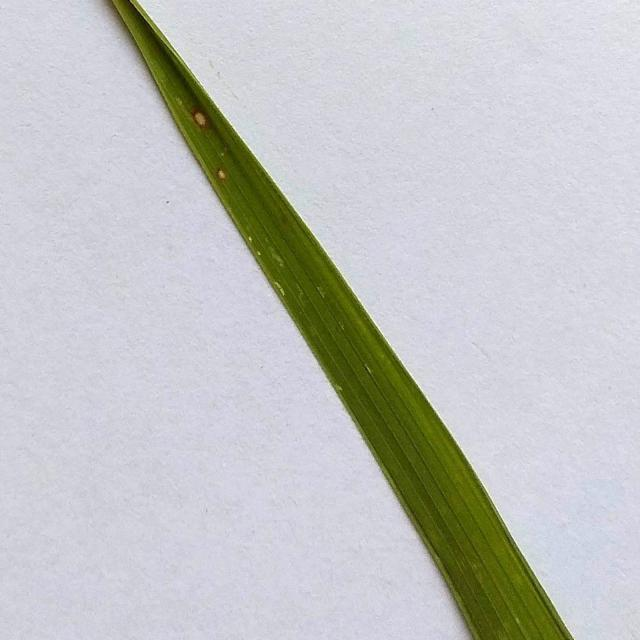Leaf_Blast: (181, 99, 222, 136), (206, 153, 238, 192)
